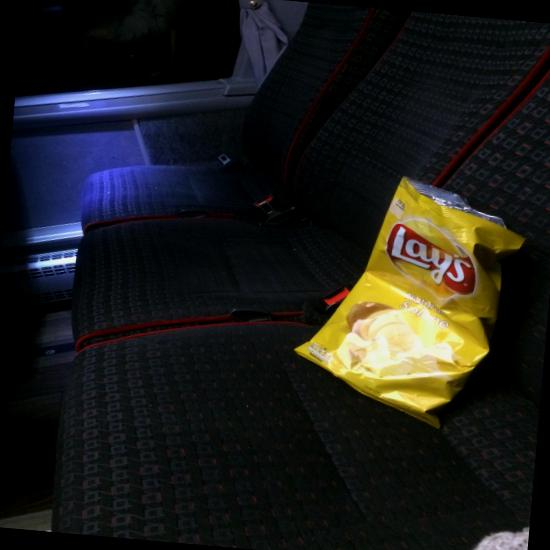Crisp packet: (294, 176, 525, 429)
